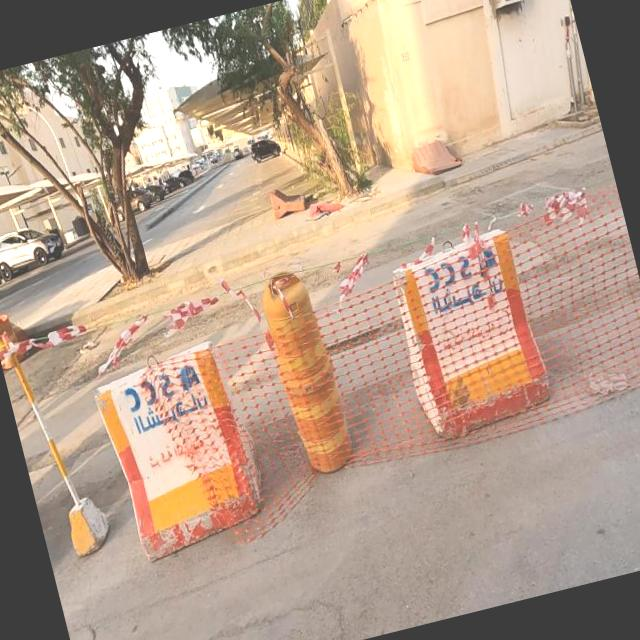debris: (346, 78, 512, 240), (216, 132, 384, 270)
